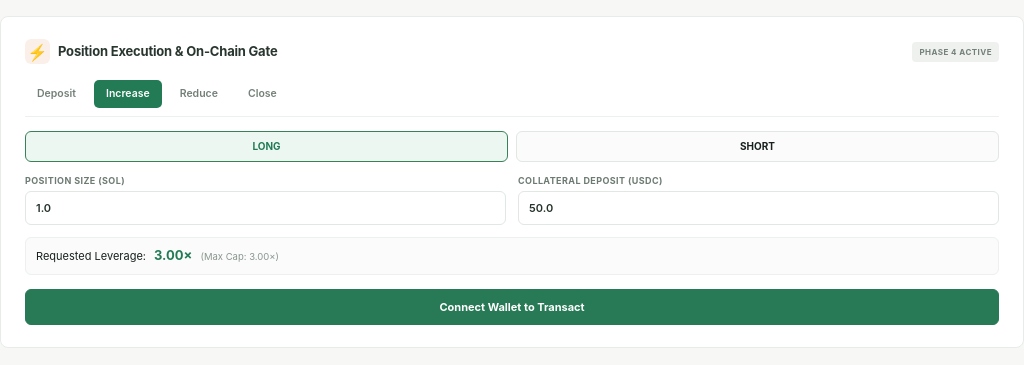
Scenario: Phase 5 Live Demo Components › handles UserTransactionPanel Increase, Reduce, and Close tab interactions without process errors
Check: the tab "Increase" is shown, box [94,80,162,108]
Check: the heading "Position Execution & On-Chain Gate" is shown, box [58,42,278,61]
# Switch to Deposit tab
Click the tab "Deposit": point(56, 94) [25,80,88,108]
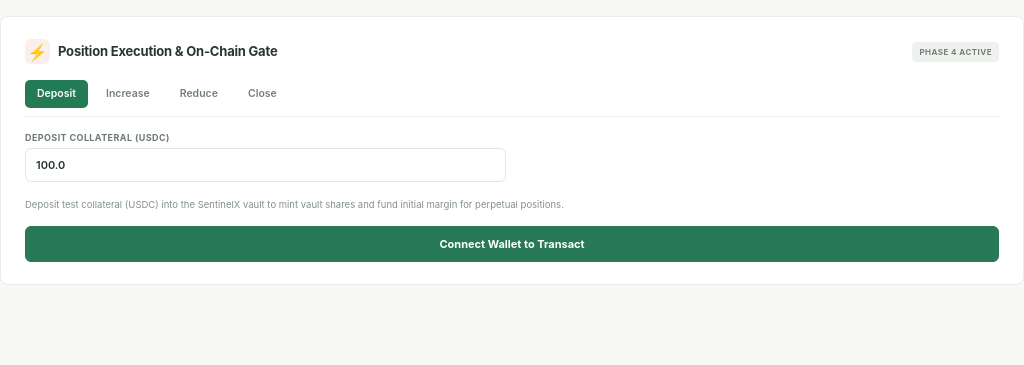
Check: the text "Deposit Collateral (USDC)" is shown, box [25,132,170,143]
Check: the text "Deposit test collateral (USDC) into the SentinelX vault" is shown, box [25,199,564,210]
# Switch to Reduce tab
Click the tab "Reduce": point(199, 94) [168,80,230,108]
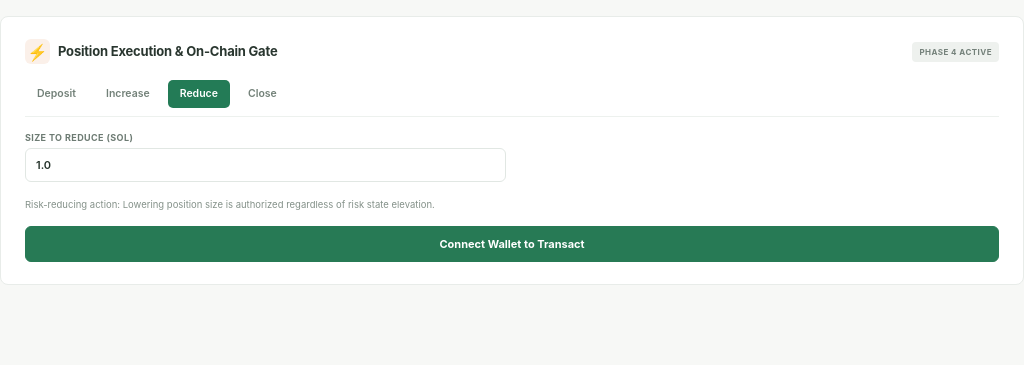
Check: the text "Size to Reduce (SOL)" is shown, box [25,132,133,143]
Check: the text "Risk-reducing action: Lowering position size" is shown, box [25,199,435,210]
# Switch to Close tab
Click the tab "Close": point(262, 94) [236,80,289,108]
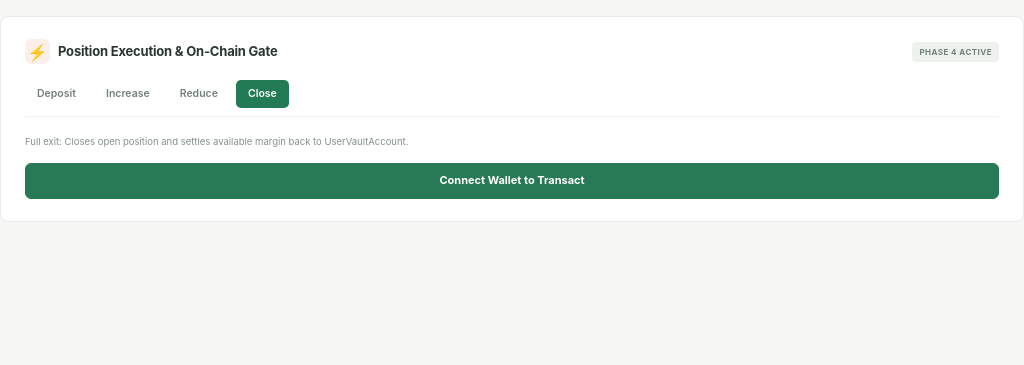
Check: the text "Full exit: Closes open position" is shown, box [25,136,408,147]
# Switch back to Increase
Click the tab "Increase": point(128, 94) [94,80,162,108]
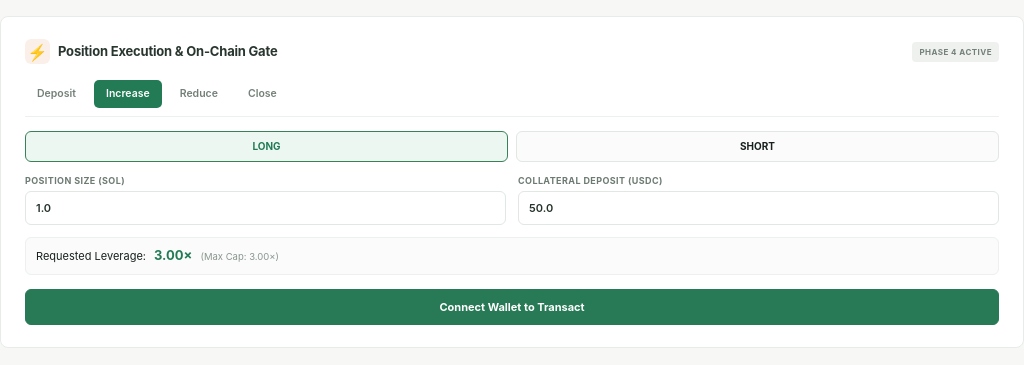
Check: the text "Position Size (SOL)" is shown, box [25,175,125,186]
